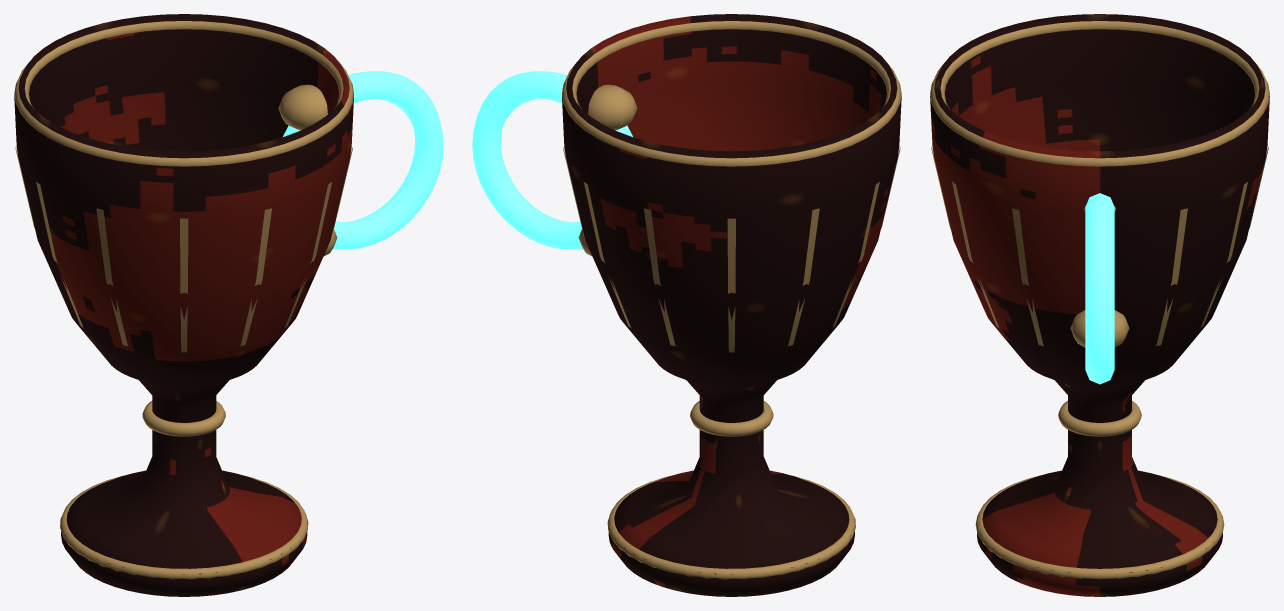
Rendered from cup_pattern_cinnabar.fbx.
The picture shows the model from 3 angles, left to right: view 1: azimuth 30°, elevation 25°; view 2: azimuth 150°, elevation 25°; view 3: azimuth 270°, elevation 25°; orthographic projection.
Parts seen in each view (by area): view 1: Reviewed_cup_Body.005, TH_S_Cup_Handle.006; view 2: Reviewed_cup_Body.005, TH_S_Cup_Handle.006; view 3: Reviewed_cup_Body.005, TH_S_Cup_Handle.006.
Part boxes in pixels (x1=…): Reviewed_cup_Body.005: x1=14, y1=14, x2=353, y2=596; TH_S_Cup_Handle.006: x1=283, y1=71, x2=443, y2=249; Reviewed_cup_Body.005: x1=562, y1=14, x2=901, y2=596; TH_S_Cup_Handle.006: x1=472, y1=71, x2=632, y2=249; Reviewed_cup_Body.005: x1=930, y1=14, x2=1269, y2=596; TH_S_Cup_Handle.006: x1=1085, y1=193, x2=1114, y2=384.
Bounding box in the file's own units: 0.19 × 0.209 × 0.138.
3 materials, 1 textured.
